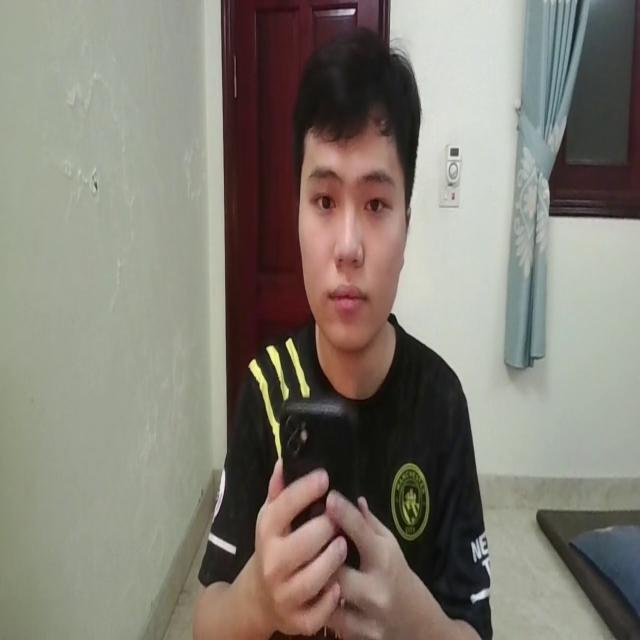student: (179, 24, 491, 640)
